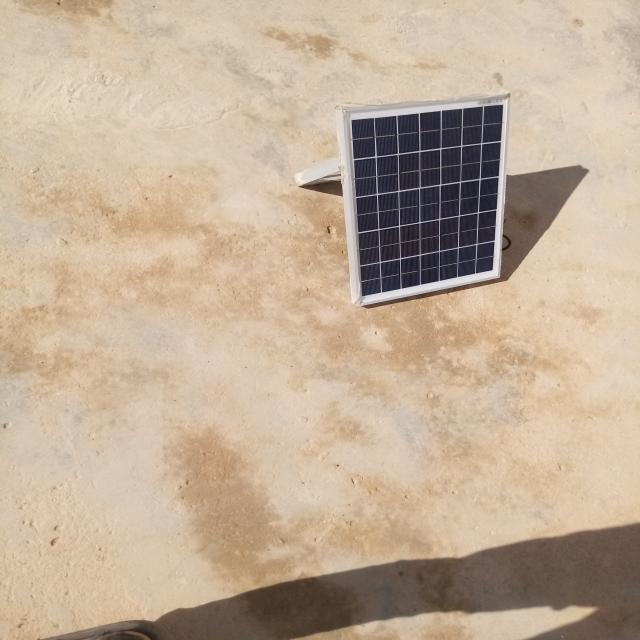no faulty: (341, 94, 509, 305)
